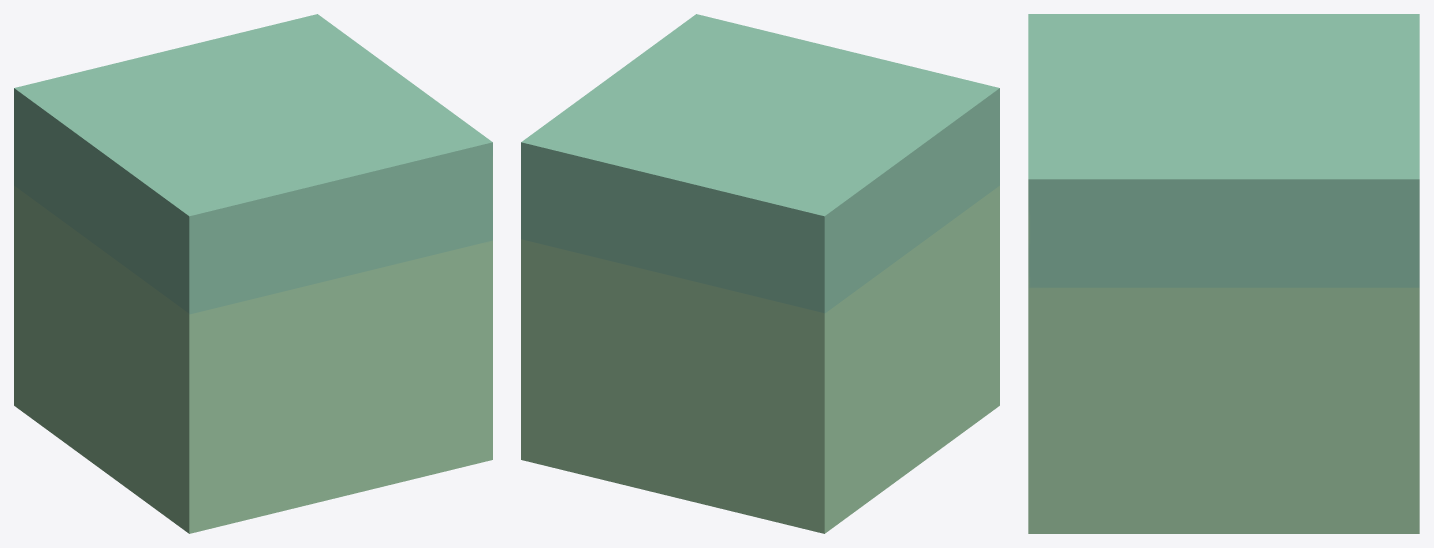
The picture shows the model from 3 angles, left to right: view 1: azimuth 30°, elevation 25°; view 2: azimuth 150°, elevation 25°; view 3: azimuth 270°, elevation 25°; orthographic projection. The views are drawn at different scales.
Visible parts, largest first — view 1: Box001; view 2: Box001; view 3: Box001.
Part boxes in pixels (x1=…): Box001: x1=14, y1=14, x2=492, y2=533; Box001: x1=521, y1=14, x2=999, y2=533; Box001: x1=1028, y1=14, x2=1419, y2=533.
Size of the model in its own units: 50 by 50 by 50.
1 material, 1 textured.
